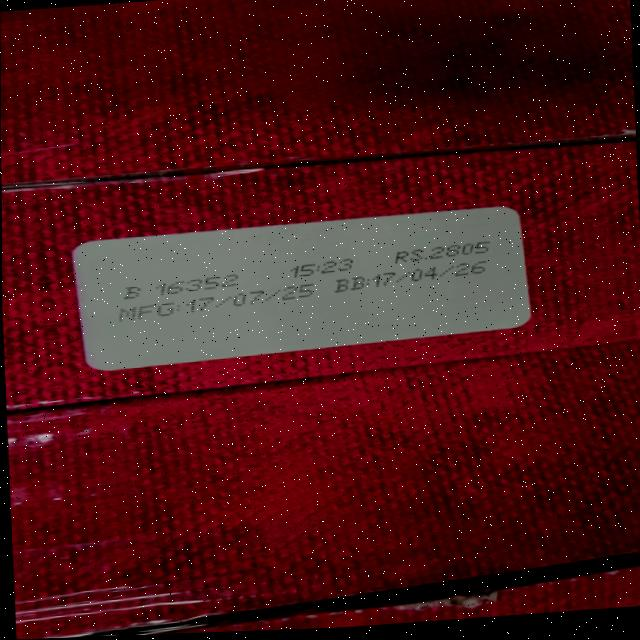BB: (332, 261, 492, 293)
Batch: (121, 273, 241, 298)
MFG: (118, 284, 315, 319)
RS: (392, 240, 494, 263)
TimeStamp: (289, 257, 354, 278)
